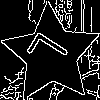L: (26, 29, 78, 77)
